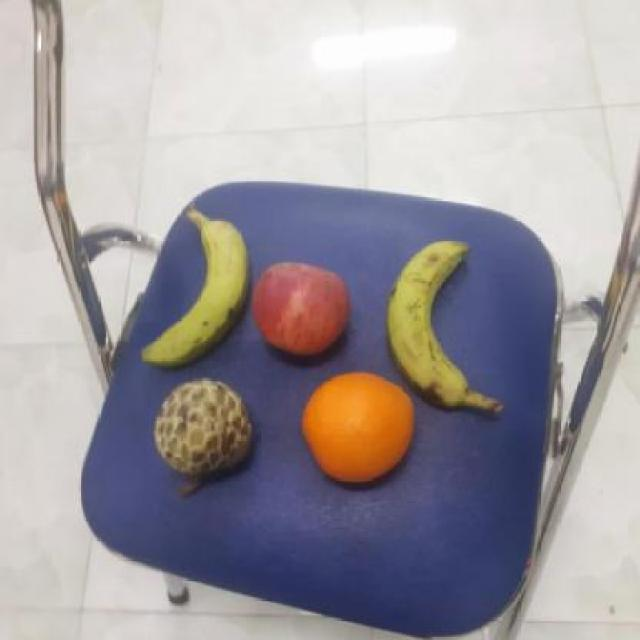apple: (248, 256, 352, 358)
banana: (140, 211, 254, 364), (384, 232, 482, 408)
oren: (302, 369, 420, 485)
sugar apple: (147, 378, 259, 474)
